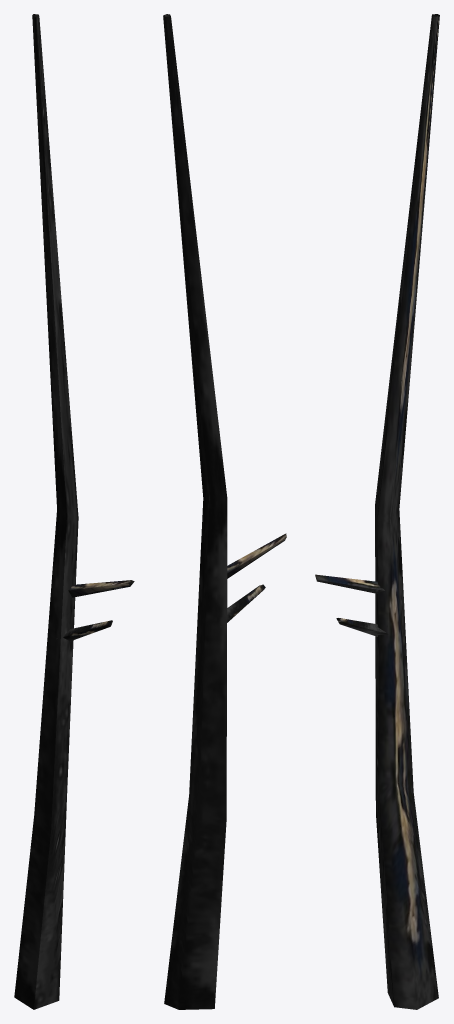
Rendered from pir_m_prp_vol_treeDead_a.fbx.
3 views of the same model, side by side, from view 1: azimuth 90°, elevation 25°; view 2: azimuth 150°, elevation 25°; view 3: azimuth 330°, elevation 25° (orthographic).
Visible parts, largest first — view 1: lod_high; view 2: lod_high; view 3: lod_high.
Boxes of the visible parts, box(x1,y1,x2,y2) form: lod_high: box(14, 14, 134, 1009); lod_high: box(163, 14, 286, 1009); lod_high: box(315, 14, 439, 1009).
Bounding box in the file's own units: 528 × 6521 × 733.
Materials: 1 (1 with a texture image).
